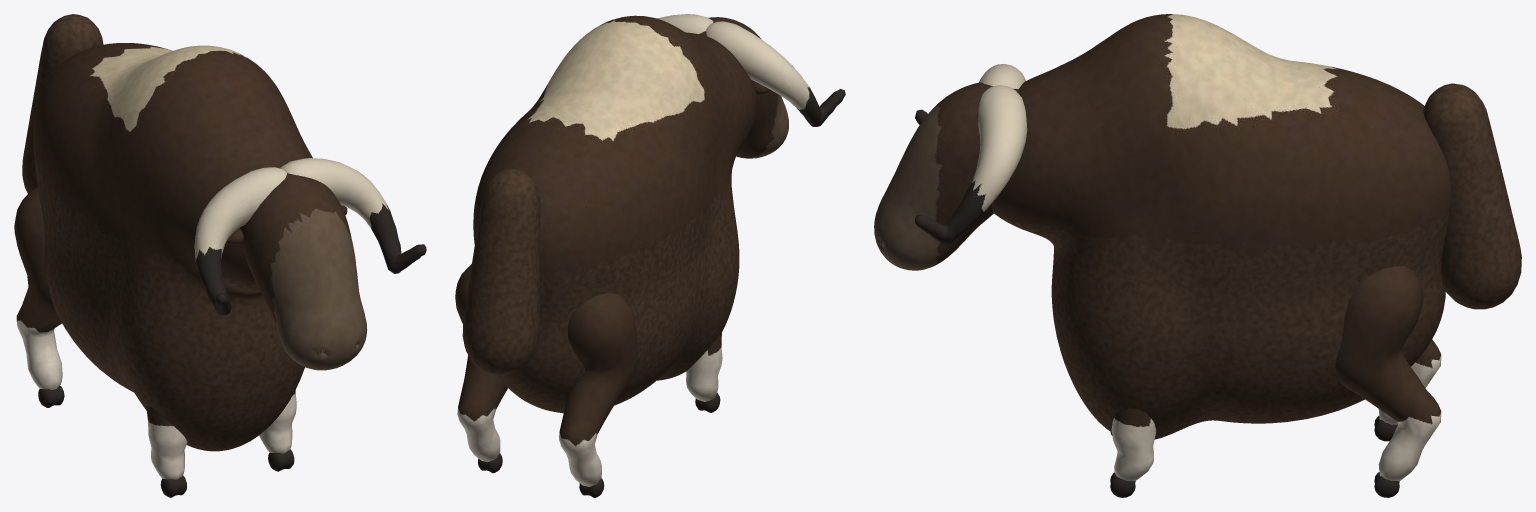
The model's file is animal_musk_ox.glb.
3 views of the same model, side by side, from view 1: azimuth 30°, elevation 25°; view 2: azimuth 150°, elevation 25°; view 3: azimuth 270°, elevation 25° (orthographic). The views are drawn at different scales.
Visible parts, largest first — view 1: animal_musk_ox, head, leg2, tail, leg0, leg1; view 2: animal_musk_ox, tail, leg2, head, leg3, leg0; view 3: animal_musk_ox, head, tail, leg3, leg1, leg2.
Boxes of the visible parts, x1,y1,x2,y2 form: animal_musk_ox: [33, 43, 312, 451]; head: [194, 158, 426, 370]; leg2: [14, 187, 64, 407]; tail: [22, 14, 103, 193]; leg0: [146, 406, 187, 497]; leg1: [259, 390, 296, 471]; animal_musk_ox: [473, 15, 756, 413]; tail: [462, 168, 540, 375]; leg2: [559, 292, 637, 497]; head: [657, 14, 845, 158]; leg3: [455, 264, 507, 473]; leg0: [686, 332, 722, 412]; animal_musk_ox: [991, 14, 1451, 439]; head: [874, 64, 1027, 270]; tail: [1423, 83, 1521, 309]; leg3: [1335, 266, 1441, 497]; leg1: [1110, 407, 1156, 497]; leg2: [1374, 339, 1441, 441].
Bounding box in the file's own units: 0.2779 × 0.5246 × 0.692.
1 material, 1 textured.
